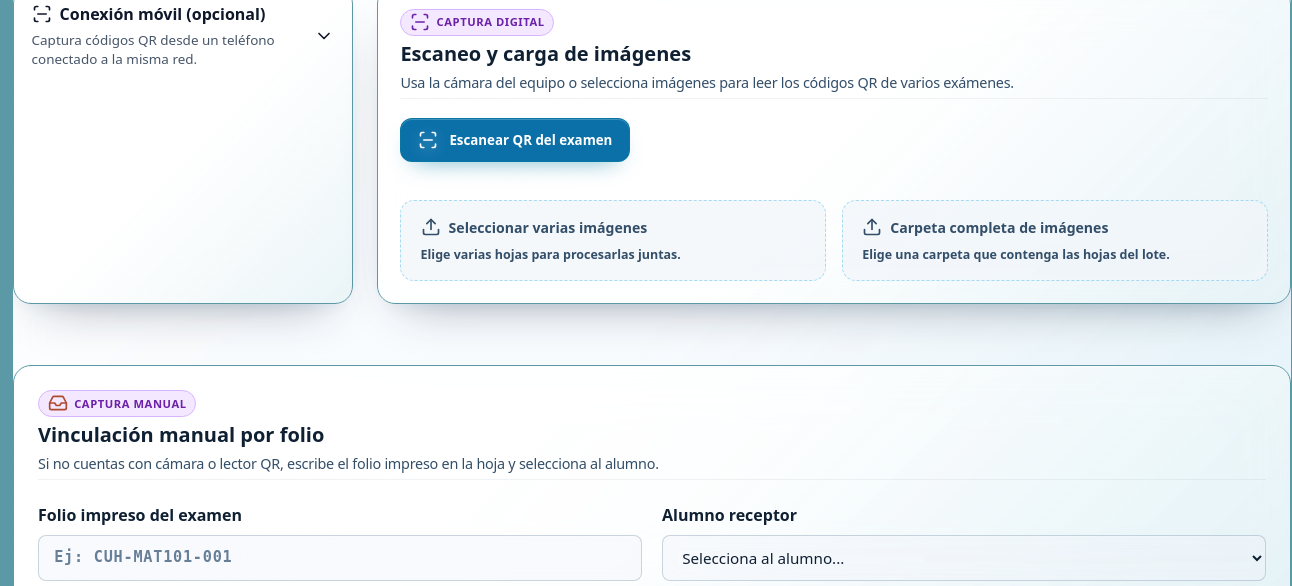
Test: SeccionRegistroEntrega › expone el error de vinculación como alerta contextual sin duplicarlo en un toast
This screenshot has width=1292, height=586.
In the field labelled "Folio impreso del examen": (340, 558) 38,534 -> 642,581, type "EX-DUMMY-17"
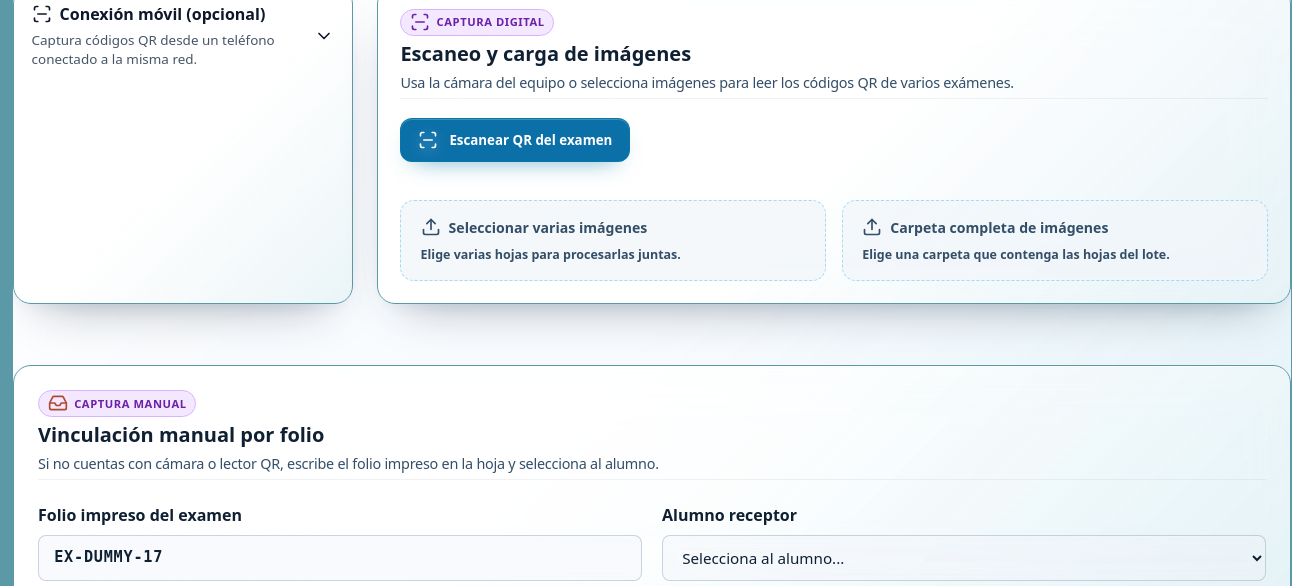
Select "DUMMY-017 - Alumna de Prueba (2A)" in the dropdown labelled "Alumno receptor": (964, 558) 662,535 -> 1266,581
(page scrolled)
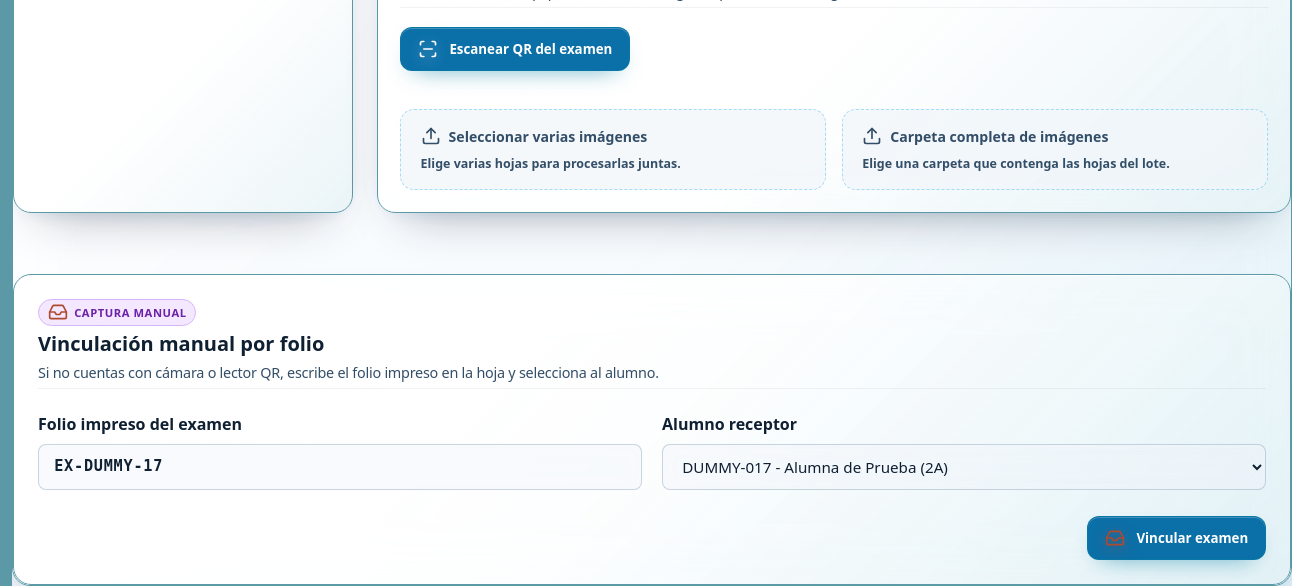
Click the button "Vincular examen": (1177, 538) 1087,516 -> 1266,560
(page scrolled)
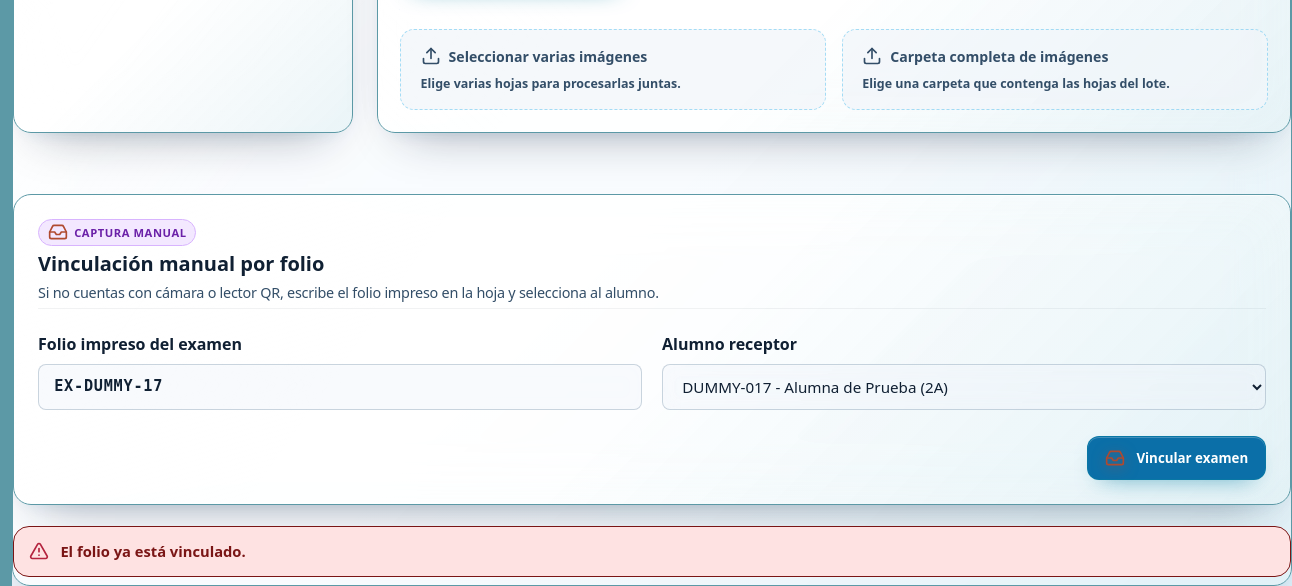
expect the text "El folio ya está vinculado." is shown: met, box 13,526 -> 1291,576
